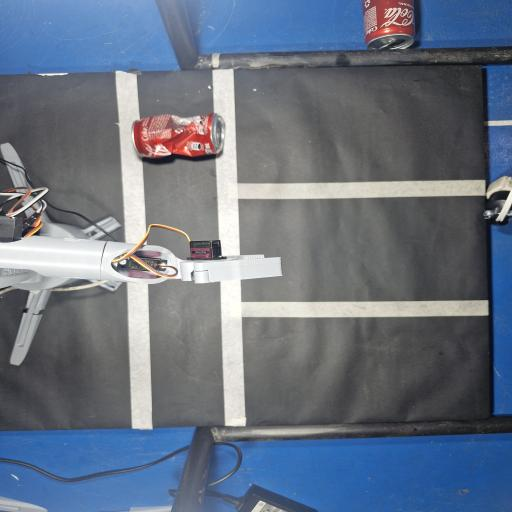lata_defectuoso: (132, 113, 225, 157)
